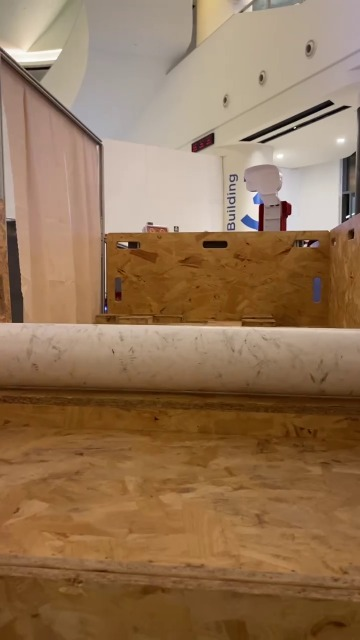curtain: (0, 45, 104, 326)
